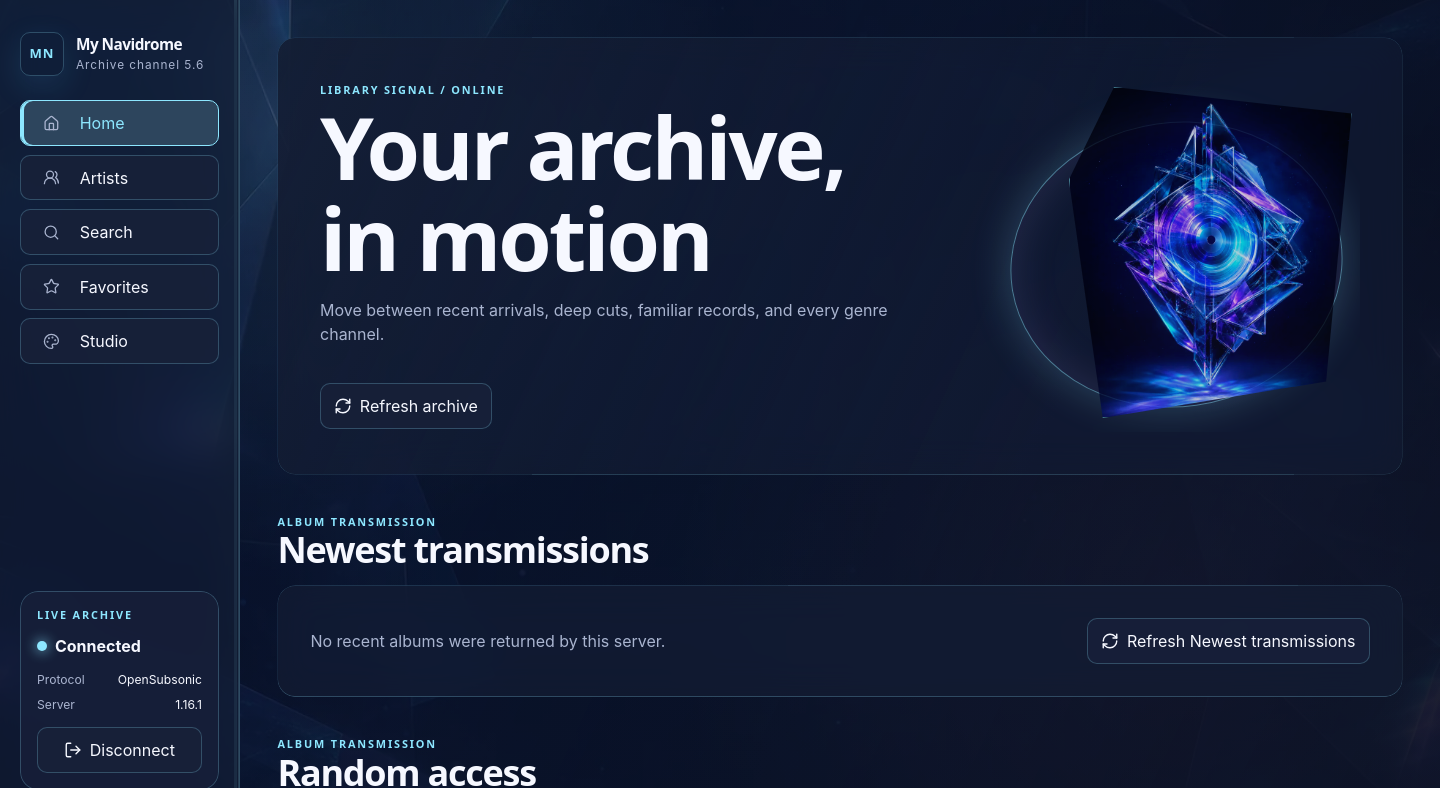
Test: state coordination regressions › preserves the artist filter through detail navigation and focuses the new main view
Click the button "Artists" at coordinates (120, 178), box [20, 155, 219, 200]
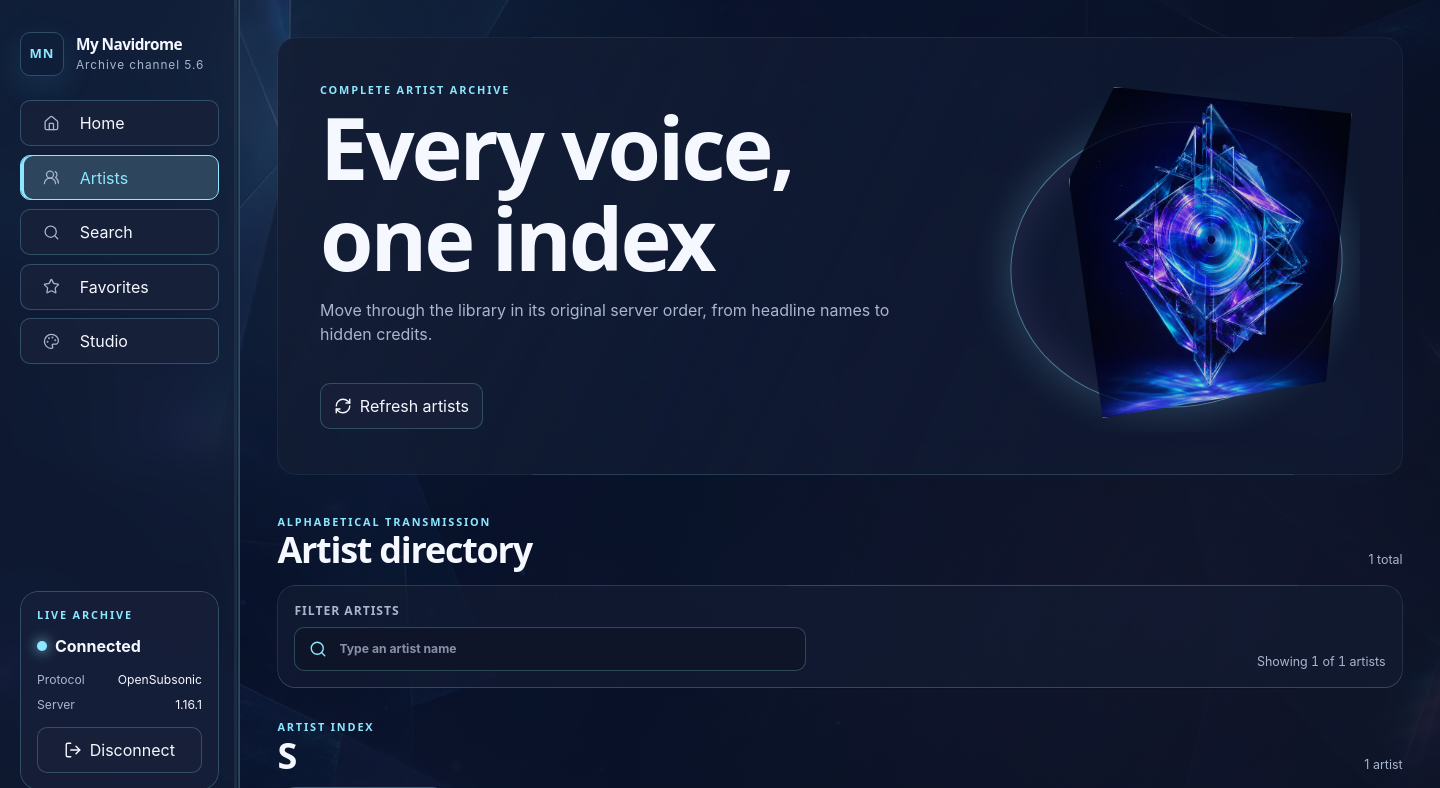
Type "signal" into the search field labelled "Filter artists" at coordinates (550, 649), box [294, 627, 806, 671]
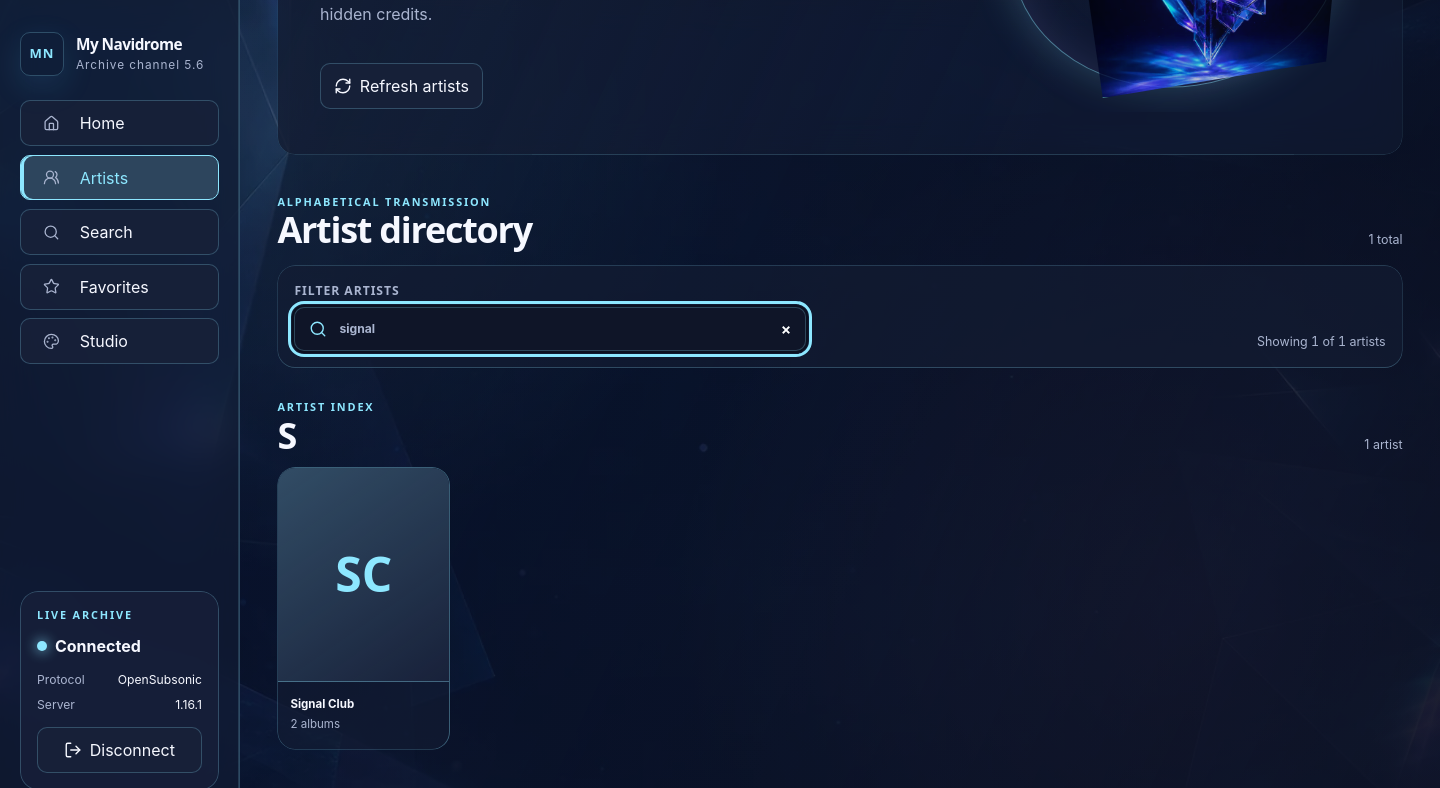
Click the button with aria-label "Open artist Signal Club" at coordinates (364, 608), box [277, 467, 450, 750]
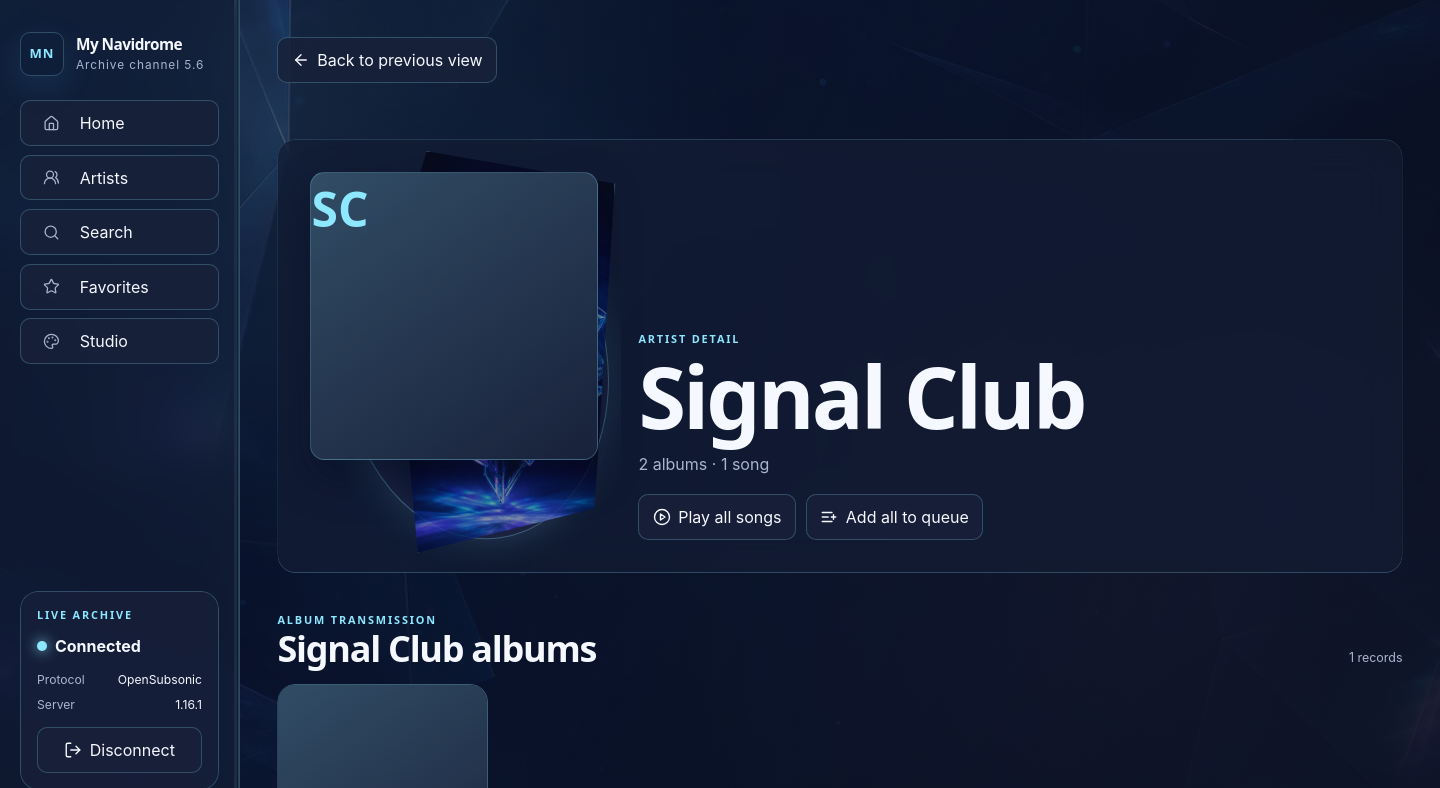
Check: the heading "Signal Club" is shown, box [638, 337, 1084, 454]
Click the button "Back to previous view" at coordinates (387, 60), box [277, 37, 497, 83]
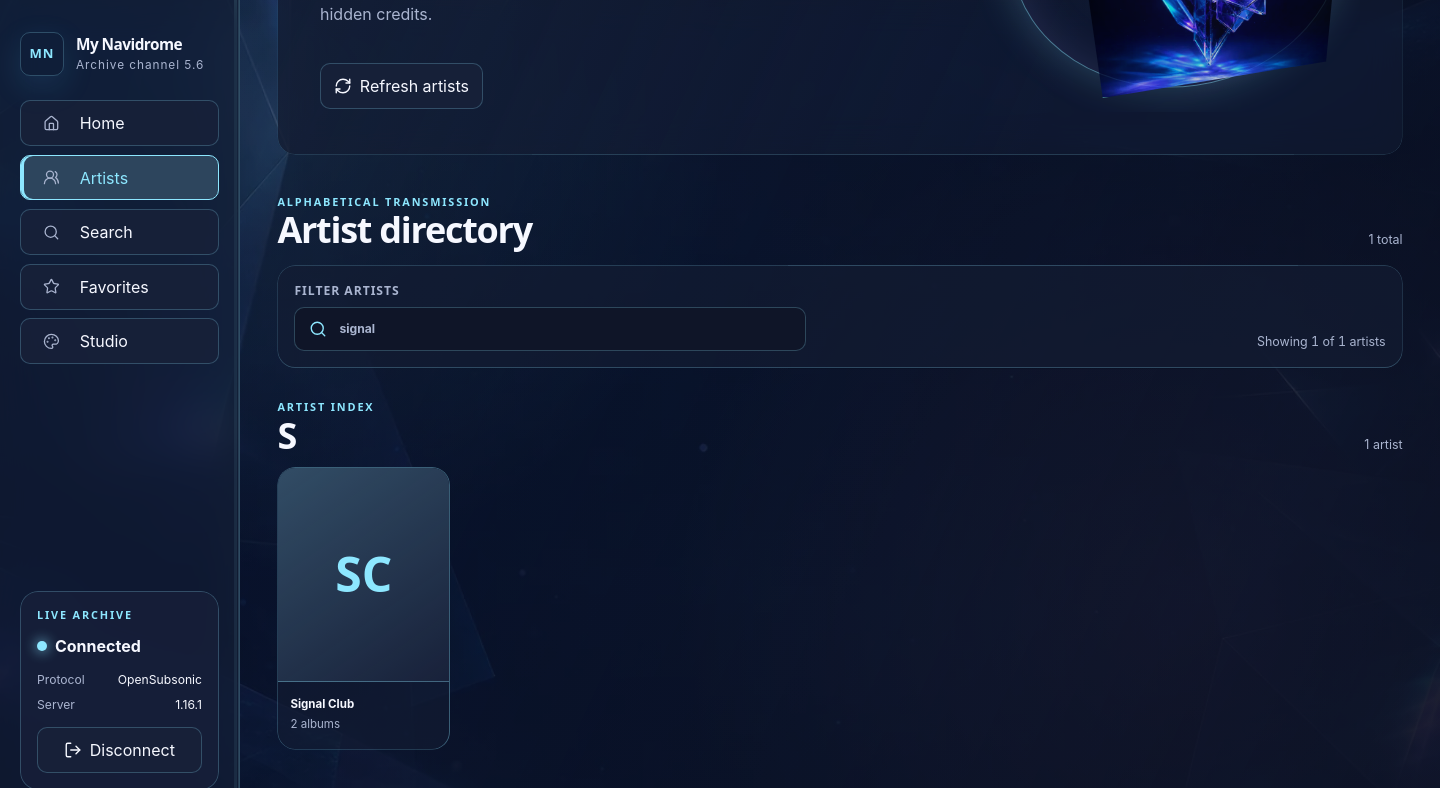
Check: the search field labelled "Filter artists" holds "signal", box [294, 307, 806, 351]
